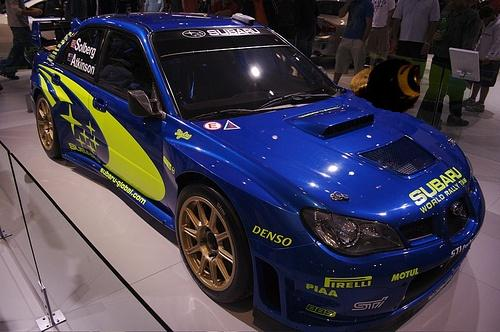tampered: (351, 59, 420, 113)
